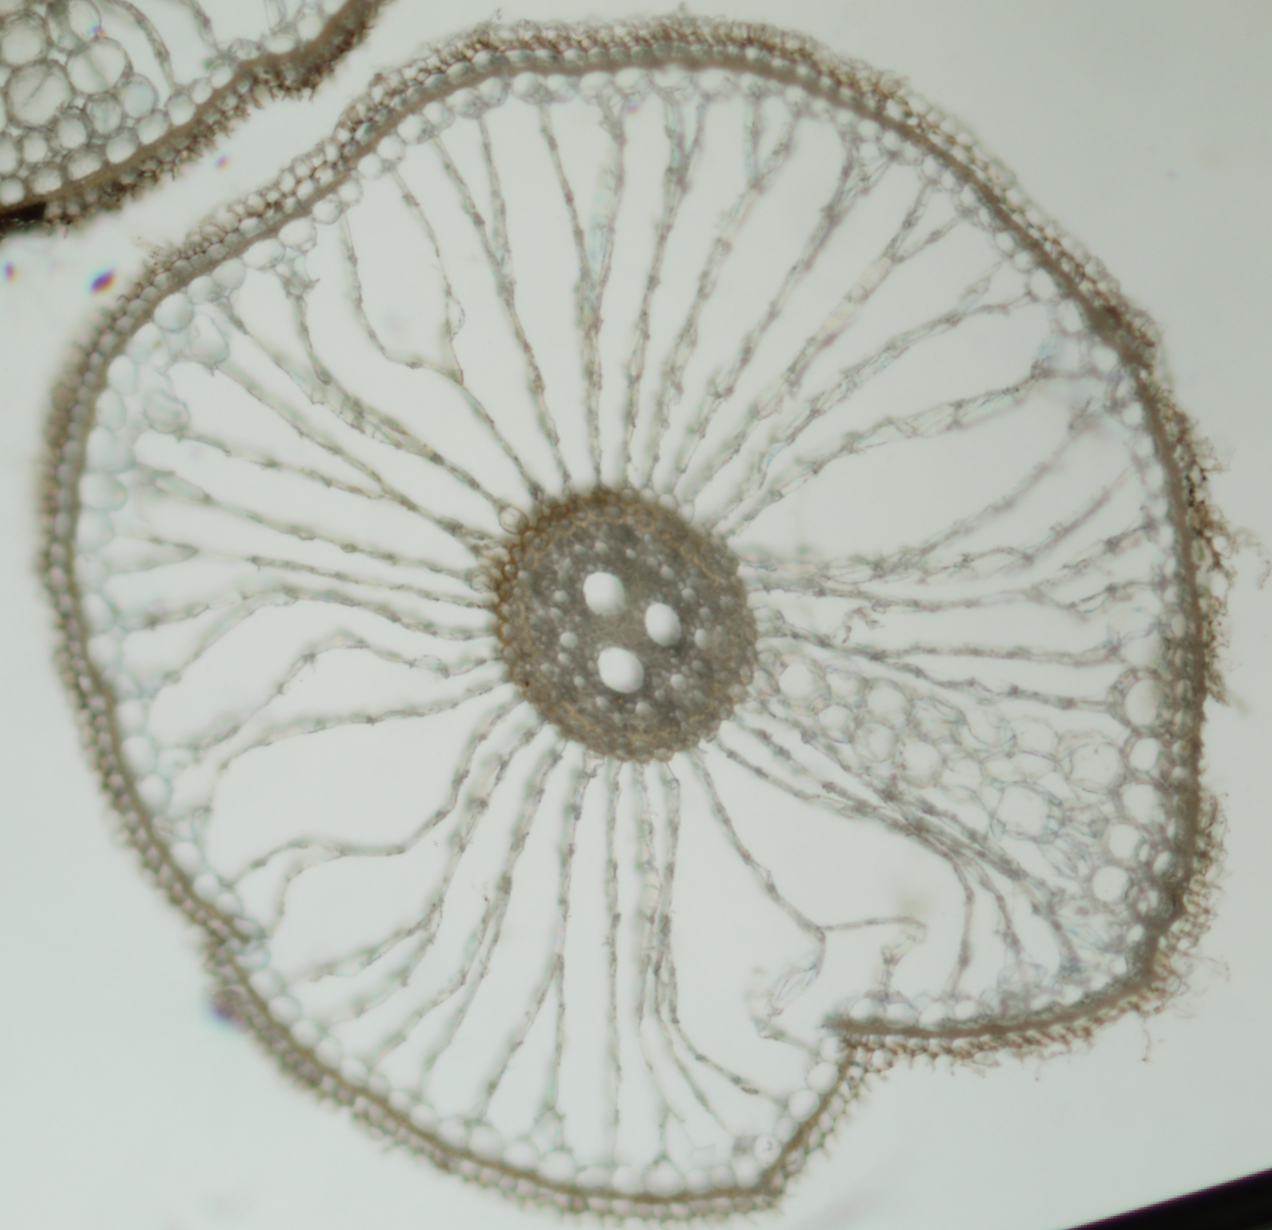lm: (597, 647, 645, 693), (583, 571, 627, 616), (644, 602, 683, 647)
